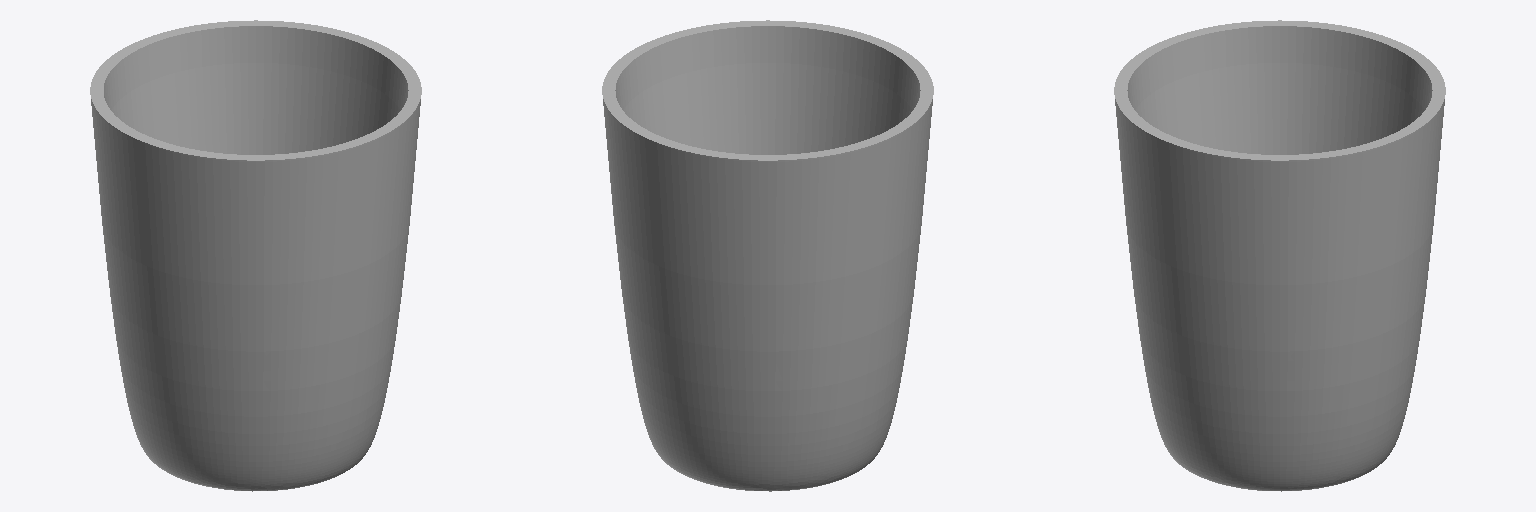
robot.urdf — root:
<robot name="root">
  <link name="link_001">
    <visual>
      <origin xyz="0 0 0" rpy="0 0 0"/>
      <geometry>
        <mesh filename="cup.obj" scale="1.2500E+00 1.2500E+00 1.2500E+00"/>
      </geometry>
      <material name="">
        <color rgba="7.50E-01 7.50E-01 7.50E-01 1"/>
      </material>
    </visual>
    <collision>
      <origin xyz="0 0 0" rpy="0 0 0"/>
      <geometry>
        <mesh filename="cup.obj" scale="1.2500E+00 1.2500E+00 1.2500E+00"/>
      </geometry>
    </collision>
    <inertial>
      <mass value="0.16"/> <!-- 质量：0.1kg -->
    </inertial>
  </link>
</robot>

--- Render facts (derived) ---
The picture shows the robot from 3 angles, left to right: view 1: azimuth 30°, elevation 25°; view 2: azimuth 150°, elevation 25°; view 3: azimuth 270°, elevation 25°; orthographic projection.
Model root with 1 links and 0 joints (none), rooted at link_001, posed every joint at zero.
Links seen in each view (by area): view 1: link_001; view 2: link_001; view 3: link_001.
Boxes of the visible links, left/top/right/bottom form: link_001: left=90, top=20, right=421, bottom=491; link_001: left=602, top=20, right=933, bottom=491; link_001: left=1114, top=20, right=1445, bottom=491.
Size in the robot's own frame: 0.1058 by 0.1058 by 0.125 metres.
Meshes: 1 distinct files referenced, 1 mesh visuals loaded (1 OBJ).
